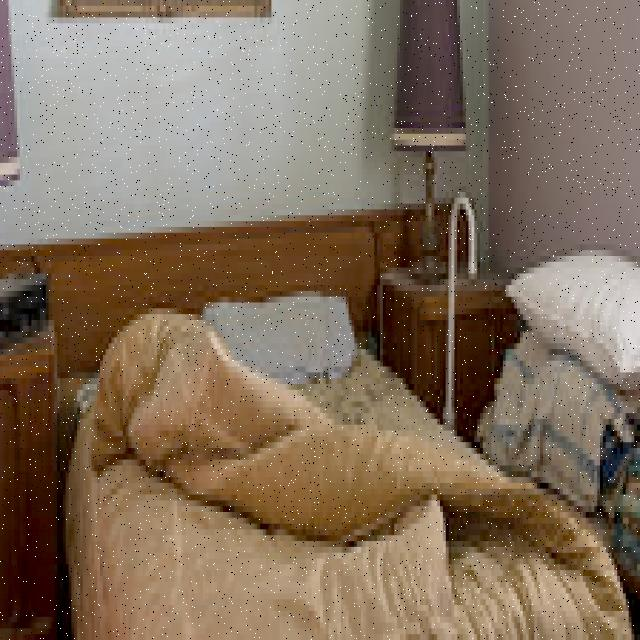bed: (64, 266, 628, 640)
